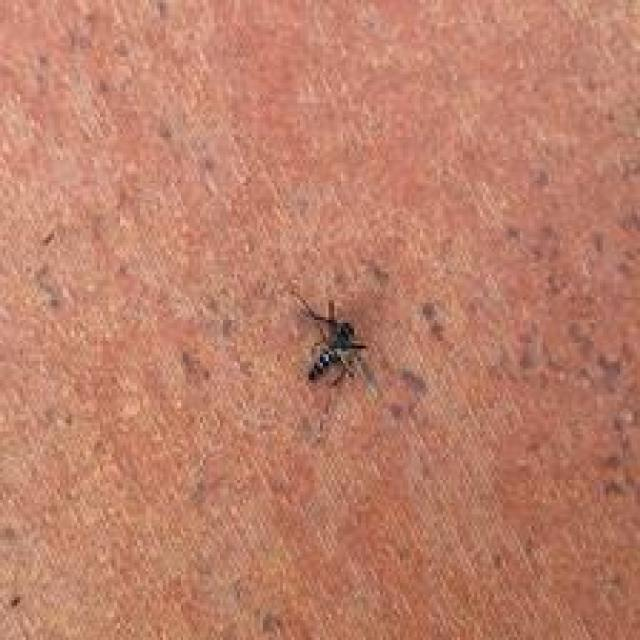Aedes albopictus: (288, 288, 383, 403)
